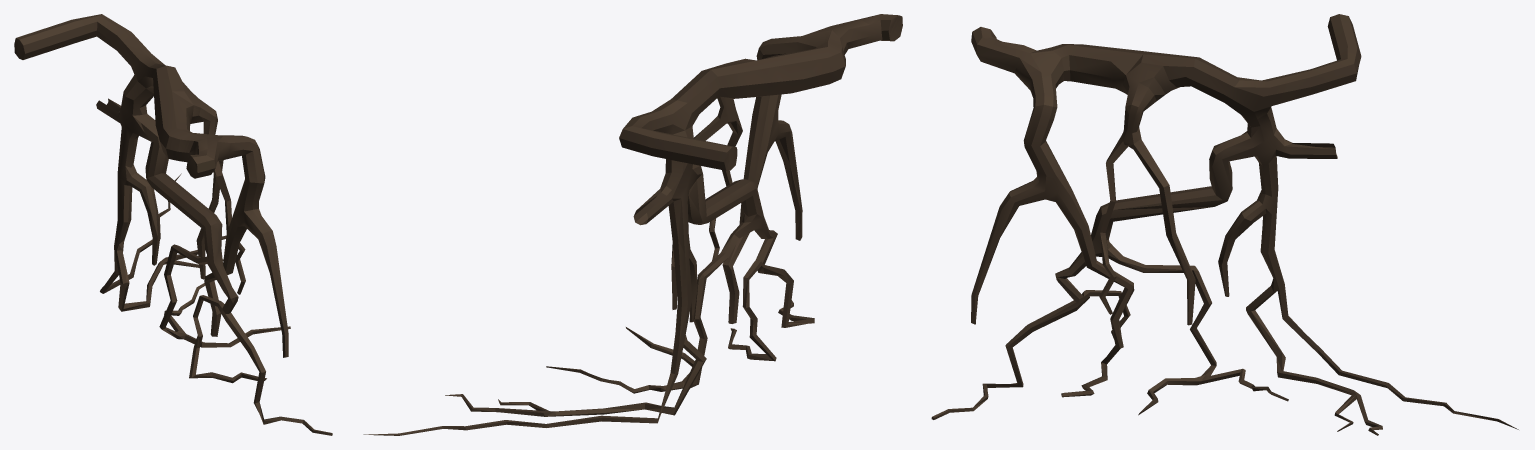
Rendered from ea_environment_nature_root_2c_pre_5_lev1.glb.
3 renders of one model, left to right at view 1: azimuth 30°, elevation 25°; view 2: azimuth 150°, elevation 25°; view 3: azimuth 270°, elevation 25°, orthographic. The views are drawn at different scales.
Parts seen in each view (by area): view 1: ea_environment_nature_root_2c_pre_5_lev1; view 2: ea_environment_nature_root_2c_pre_5_lev1; view 3: ea_environment_nature_root_2c_pre_5_lev1.
Part boxes in pixels (box(x1,y1,x2,y2)): ea_environment_nature_root_2c_pre_5_lev1: box(14, 14, 332, 435); ea_environment_nature_root_2c_pre_5_lev1: box(363, 14, 902, 435); ea_environment_nature_root_2c_pre_5_lev1: box(931, 14, 1518, 435).
Size of the model in its own units: 1.8 by 2.1 by 3.35.
Materials: 1 (1 with a texture image).
